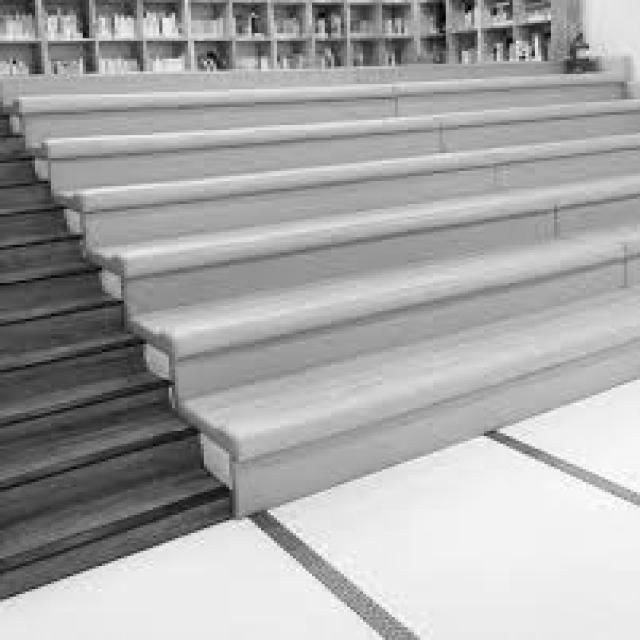stair: (21, 81, 640, 516), (1, 264, 238, 605), (0, 326, 238, 607)
